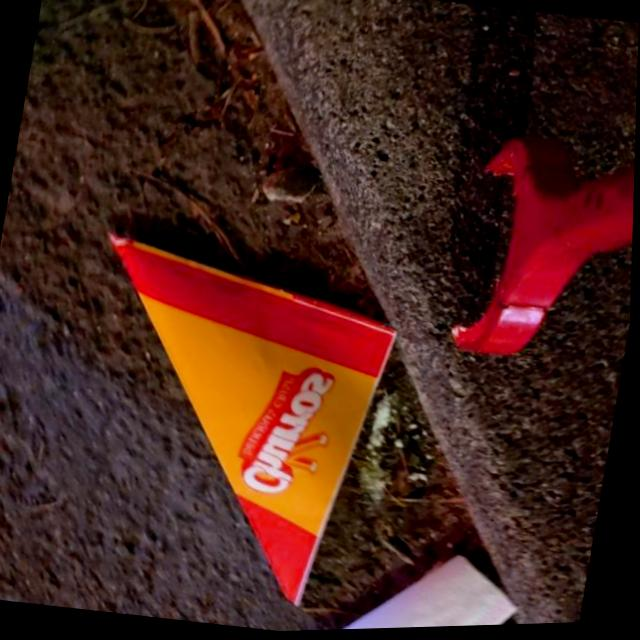Paper: (46, 220, 415, 625), (333, 537, 546, 632)
